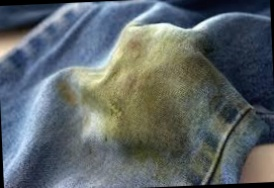earth: (76, 53, 198, 152)
